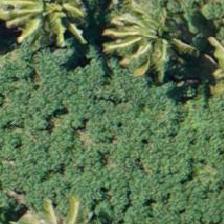coconut_tree: (109, 2, 199, 92), (16, 0, 106, 54)
